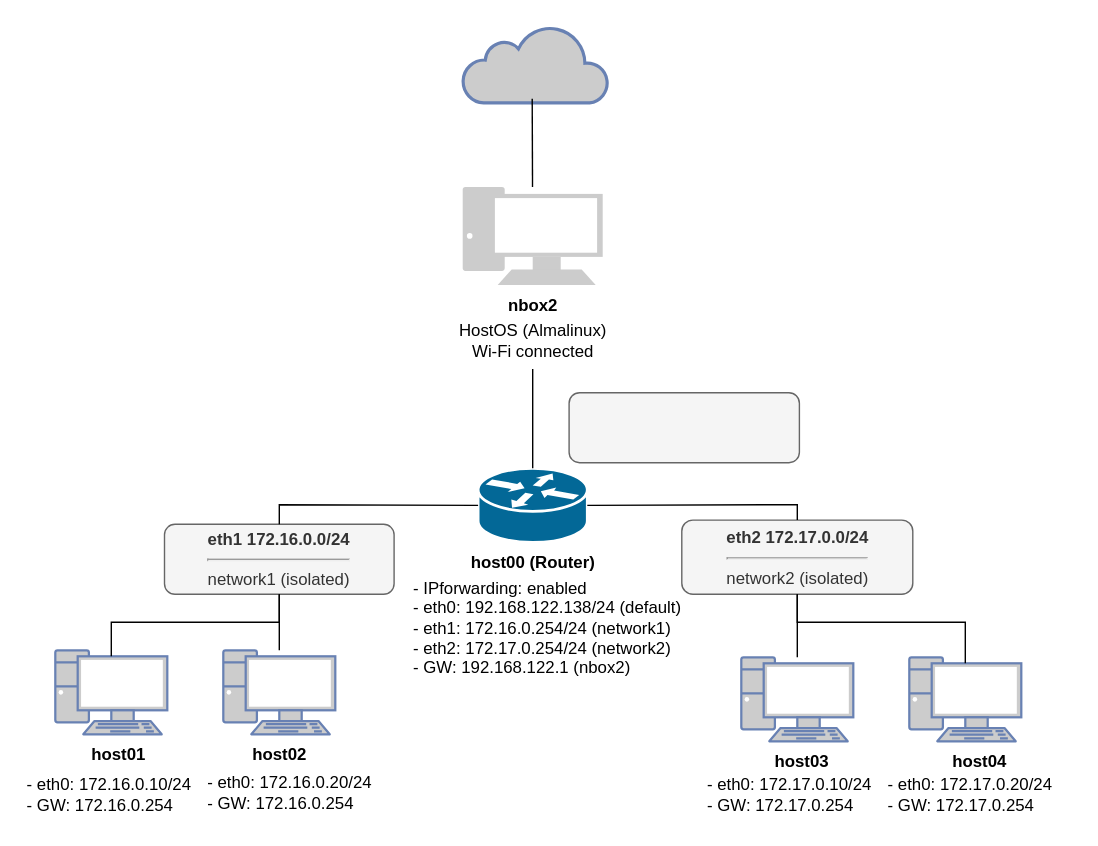
This 1098x846 diagram has some shape labels left out. Here are the shapes that lost their labels. From the top down, the centre of each, then its label:
At (535,64): "Internet".
At (683,427): "eth0 192.168.122.0/24 libvirt default NAT".
